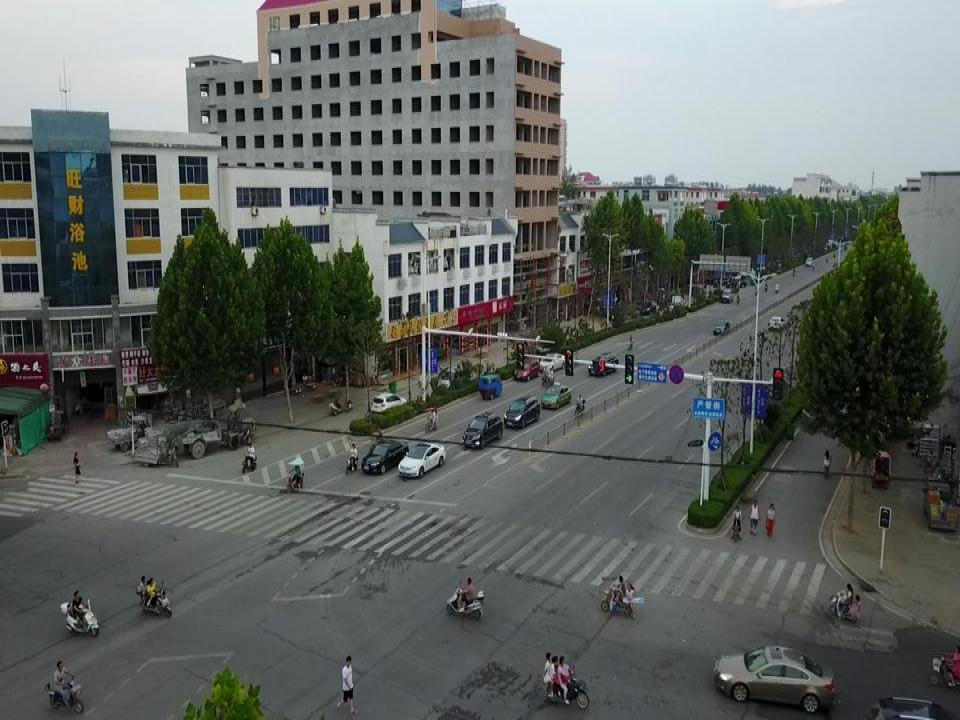car: (715, 645, 834, 712), (866, 690, 958, 720), (361, 434, 407, 470), (464, 408, 504, 448), (400, 437, 444, 472), (503, 395, 540, 425), (372, 388, 407, 415), (543, 380, 572, 409), (587, 349, 619, 375), (511, 357, 540, 383), (541, 351, 566, 373), (640, 299, 659, 313), (714, 318, 730, 334), (769, 315, 785, 329), (728, 277, 746, 288), (705, 275, 722, 285), (718, 275, 731, 285)
truck: (922, 480, 958, 529), (723, 287, 735, 301)
van: (806, 258, 813, 266)
